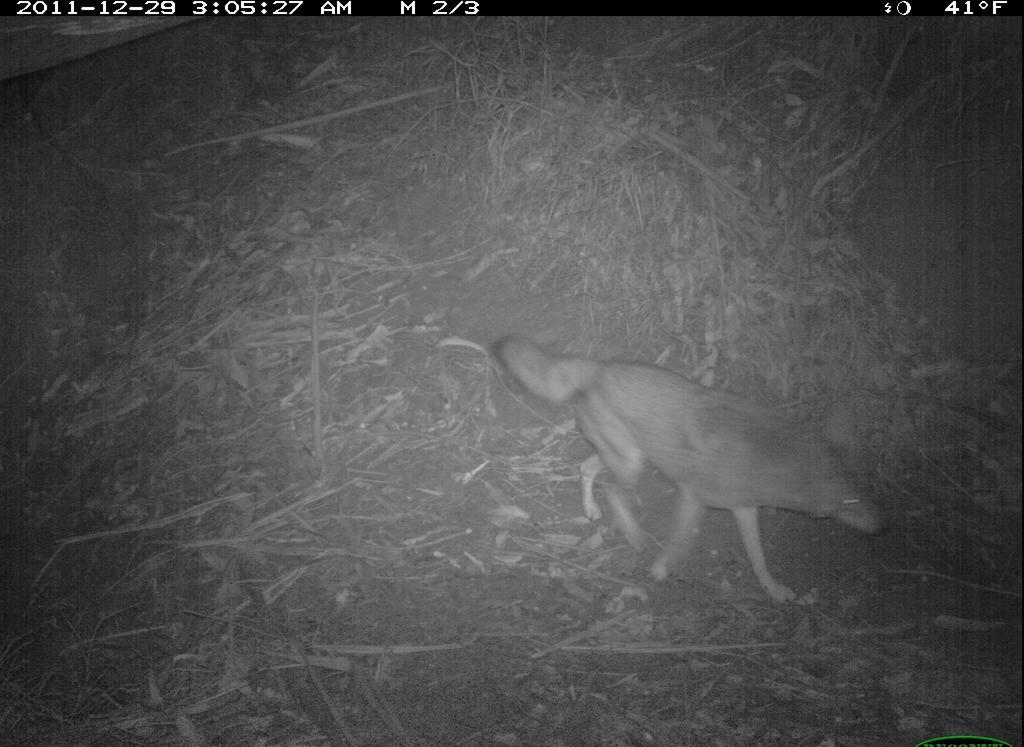coyote: (486, 318, 895, 616)
